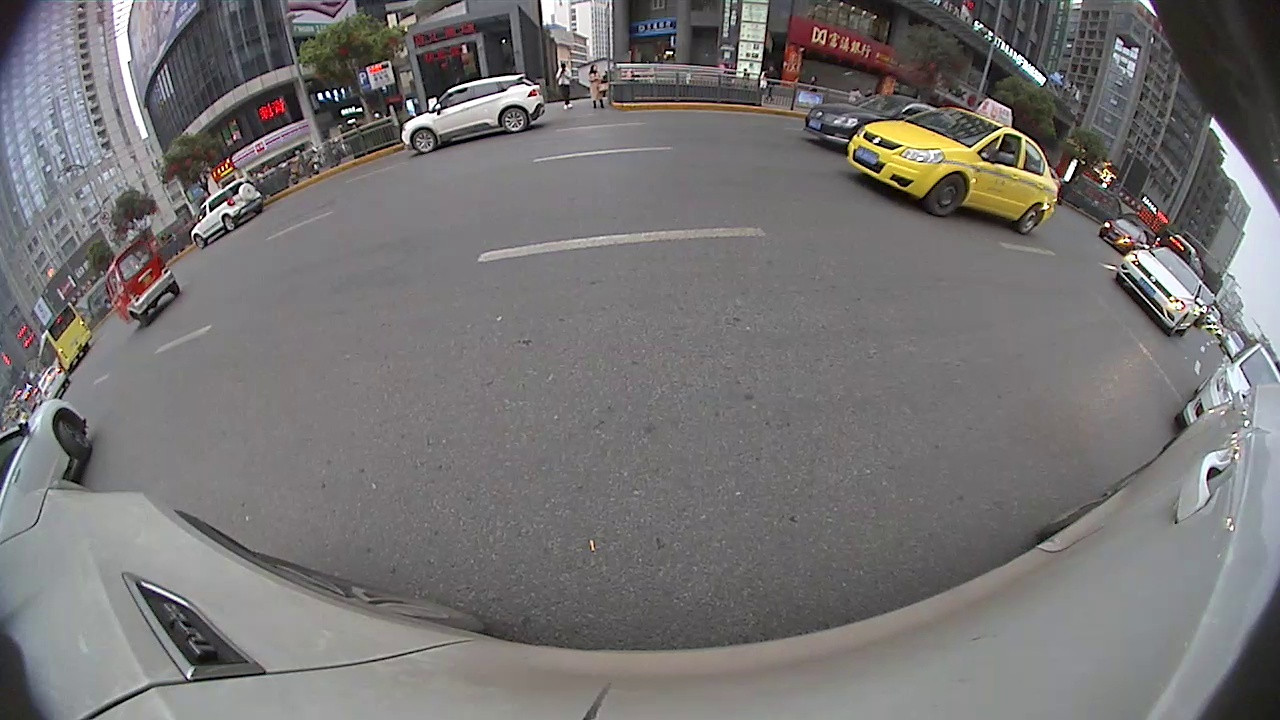bus: (1, 398, 95, 527)
car: (843, 99, 1062, 235), (399, 73, 548, 155), (1172, 343, 1279, 437), (800, 92, 954, 152), (1113, 244, 1205, 338), (188, 178, 266, 250)
front: (50, 413, 95, 463), (924, 172, 966, 218), (413, 128, 436, 157), (192, 235, 209, 250)
rear: (1016, 202, 1045, 238), (500, 106, 530, 135), (221, 214, 238, 233)
rider: (100, 239, 185, 328)
